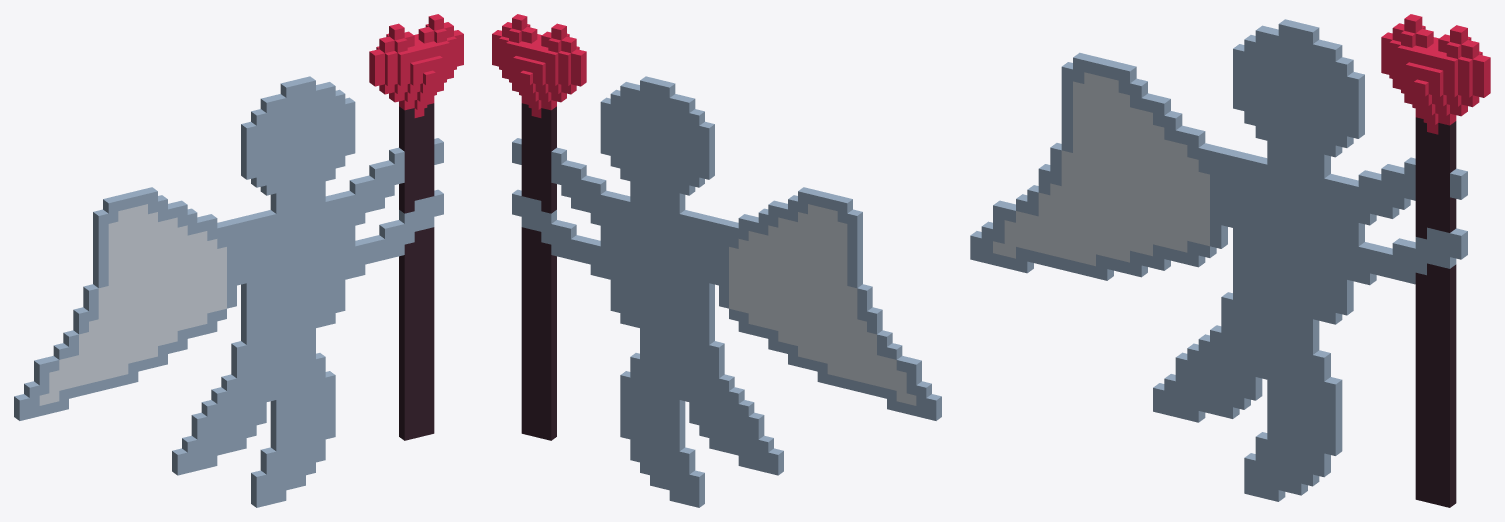
The model's file is LaserCupid.fbx.
The picture shows the model from 3 angles, left to right: view 1: azimuth 30°, elevation 25°; view 2: azimuth 150°, elevation 25°; view 3: azimuth 330°, elevation 25°; orthographic projection. The views are drawn at different scales.
Visible parts, largest first — view 1: generated; view 2: generated; view 3: generated.
Boxes of the visible parts, bbox=[...] form: generated: bbox=[14, 14, 463, 507]; generated: bbox=[492, 14, 941, 507]; generated: bbox=[970, 14, 1490, 507].
Bounding box in the file's own units: 450 × 430 × 50.
